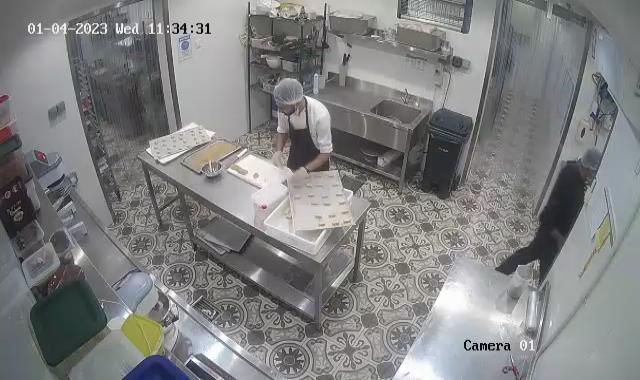hairnet: (272, 80, 306, 110), (579, 146, 601, 174)
